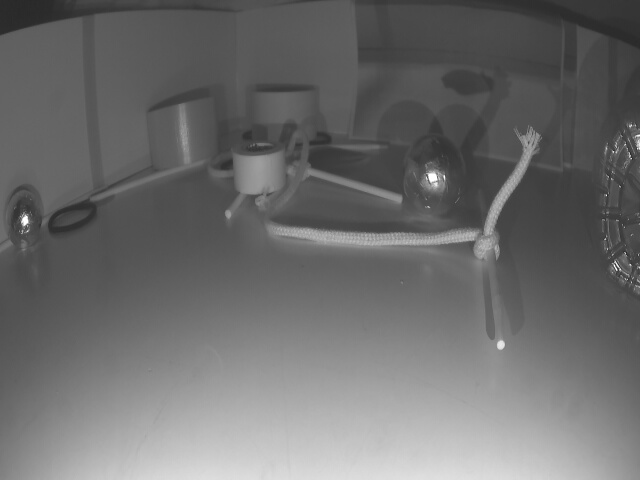Live: (404, 136, 469, 217), (5, 187, 46, 244)
